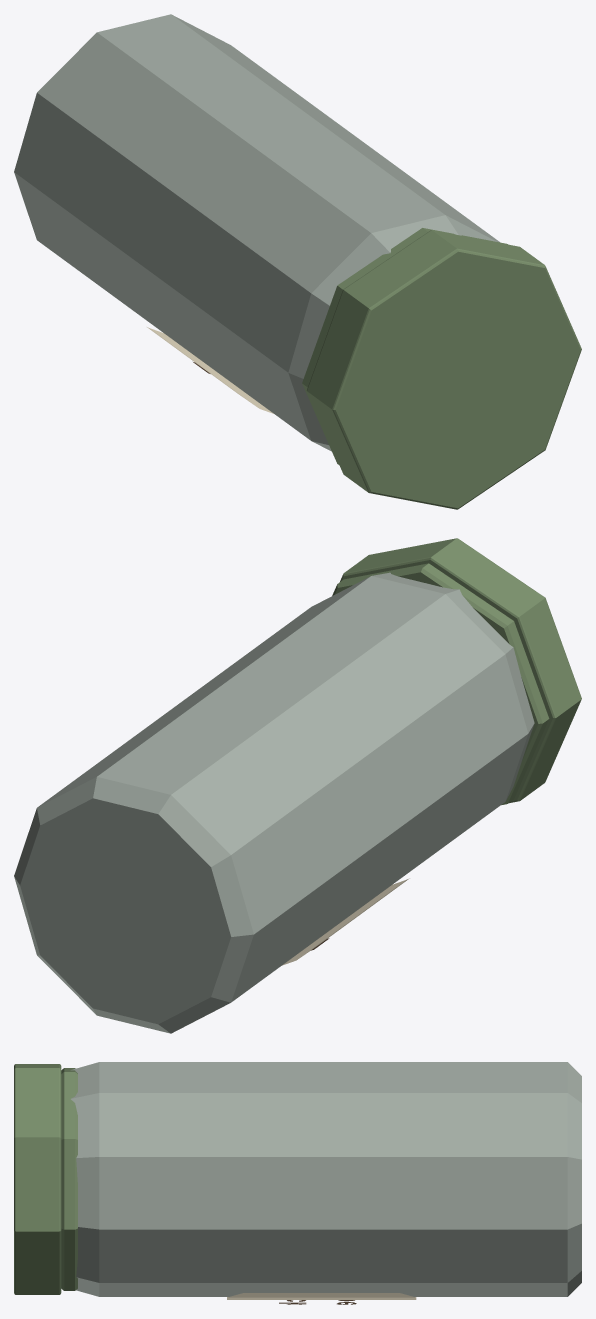
The model's file is black_pepper.glb.
3 renders of one model, top to bottom at view 1: azimuth 30°, elevation 25°; view 2: azimuth 150°, elevation 25°; view 3: azimuth 270°, elevation 25°, orthographic. The views are drawn at different scales.
Visible parts, largest first — view 1: black_pepper; view 2: black_pepper; view 3: black_pepper.
Part boxes in pixels (x1,y1,x2,y2): black_pepper: (14, 14, 581, 509); black_pepper: (14, 538, 581, 1033); black_pepper: (14, 1062, 581, 1304).
Bounding box in the file's own units: 0.052 × 0.0525 × 0.12.
